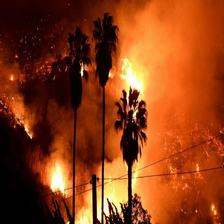fire: (102, 50, 147, 221), (44, 159, 94, 220), (7, 82, 40, 174)
